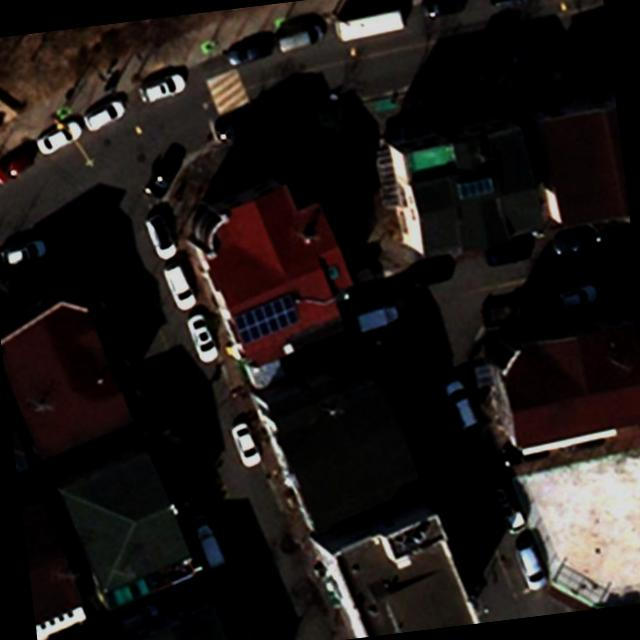solar: (227, 286, 304, 348)
